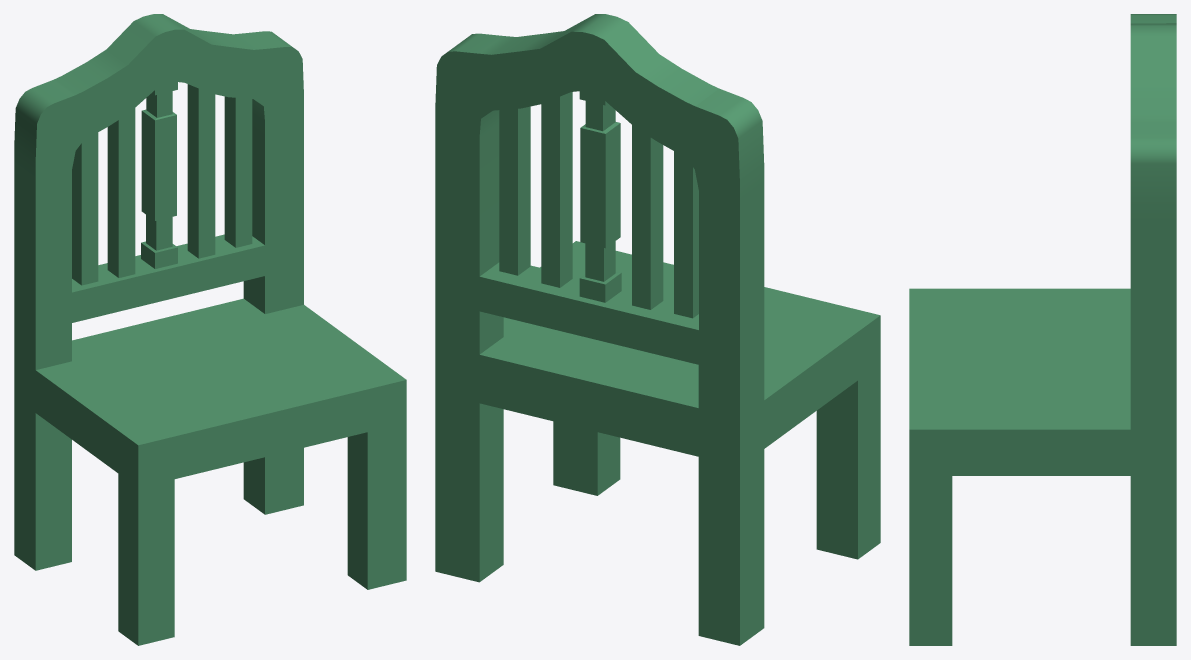
The model's file is Chair_V2.fbx.
3 views of the same model, side by side, from view 1: azimuth 30°, elevation 25°; view 2: azimuth 150°, elevation 25°; view 3: azimuth 270°, elevation 25° (orthographic). The views are drawn at different scales.
Visible parts, largest first — view 1: Chair; view 2: Chair; view 3: Chair.
Boxes of the visible parts, <box> form: Chair: <box>14,14,406,645</box>; Chair: <box>435,14,880,645</box>; Chair: <box>909,14,1176,645</box>.
Size of the model in its own units: 110 by 199 by 88.11.
